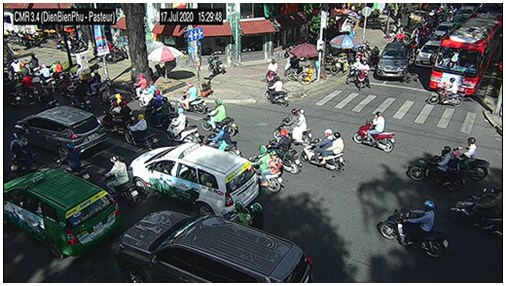xe_buyt: (429, 12, 501, 98)
xe_hoi: (116, 209, 314, 283), (4, 167, 122, 258), (128, 143, 260, 216), (16, 104, 108, 153), (375, 42, 408, 79), (417, 39, 439, 68), (432, 21, 454, 39)
xe_may: (378, 199, 449, 260), (450, 185, 502, 239), (407, 146, 465, 191), (301, 128, 346, 171), (247, 145, 284, 193), (354, 111, 395, 153), (453, 137, 490, 181), (106, 156, 139, 205), (274, 108, 313, 145), (202, 98, 238, 136), (166, 108, 201, 144), (58, 144, 90, 182), (429, 77, 464, 110), (125, 114, 158, 147), (10, 133, 32, 176), (177, 82, 206, 113), (104, 93, 124, 135), (265, 76, 291, 108), (150, 99, 173, 128), (72, 80, 92, 112), (139, 82, 158, 110), (356, 60, 371, 92), (98, 76, 115, 103), (38, 85, 57, 109), (129, 75, 147, 100), (347, 54, 361, 86), (145, 90, 161, 118), (21, 74, 37, 98), (39, 63, 55, 87), (265, 57, 278, 86)
